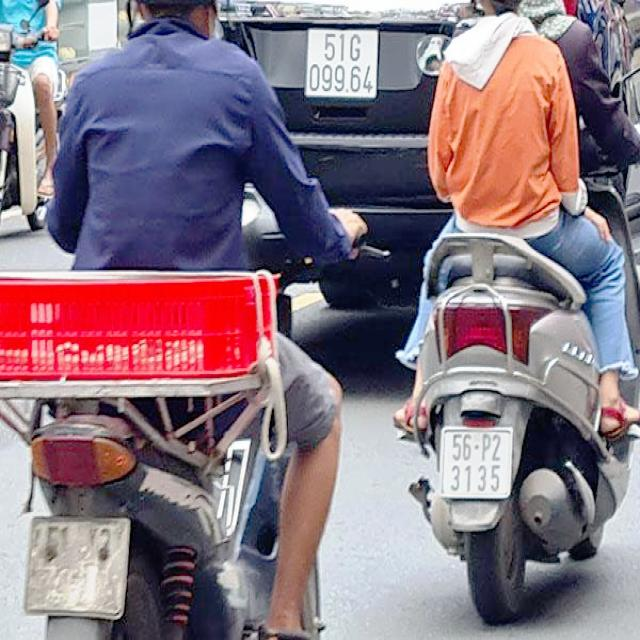license_plate: (441, 428, 512, 498), (308, 31, 380, 99)
